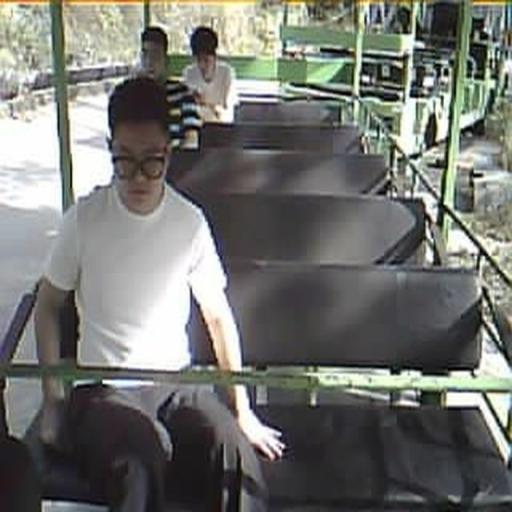persona: (32, 73, 286, 510), (131, 24, 204, 150), (180, 26, 238, 122)
